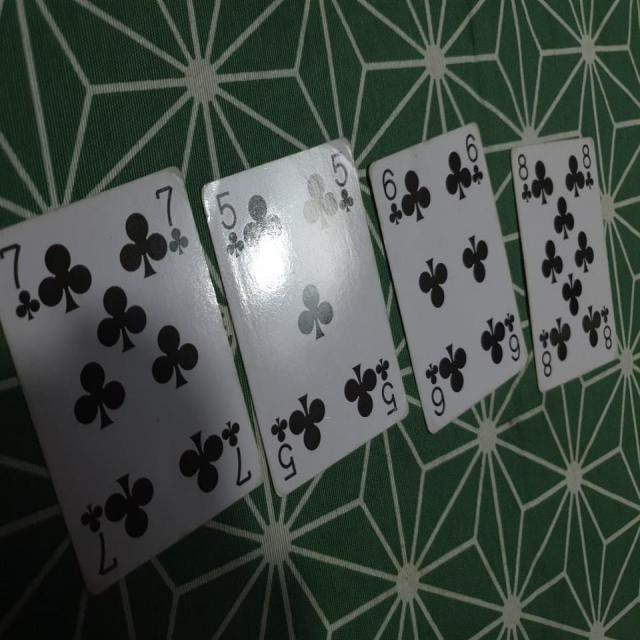5 Trefoils: (198, 133, 411, 498)
6 Trefoils: (365, 117, 531, 440)
7 Trefoils: (1, 163, 267, 596)
8 Trefoils: (511, 136, 620, 392)
